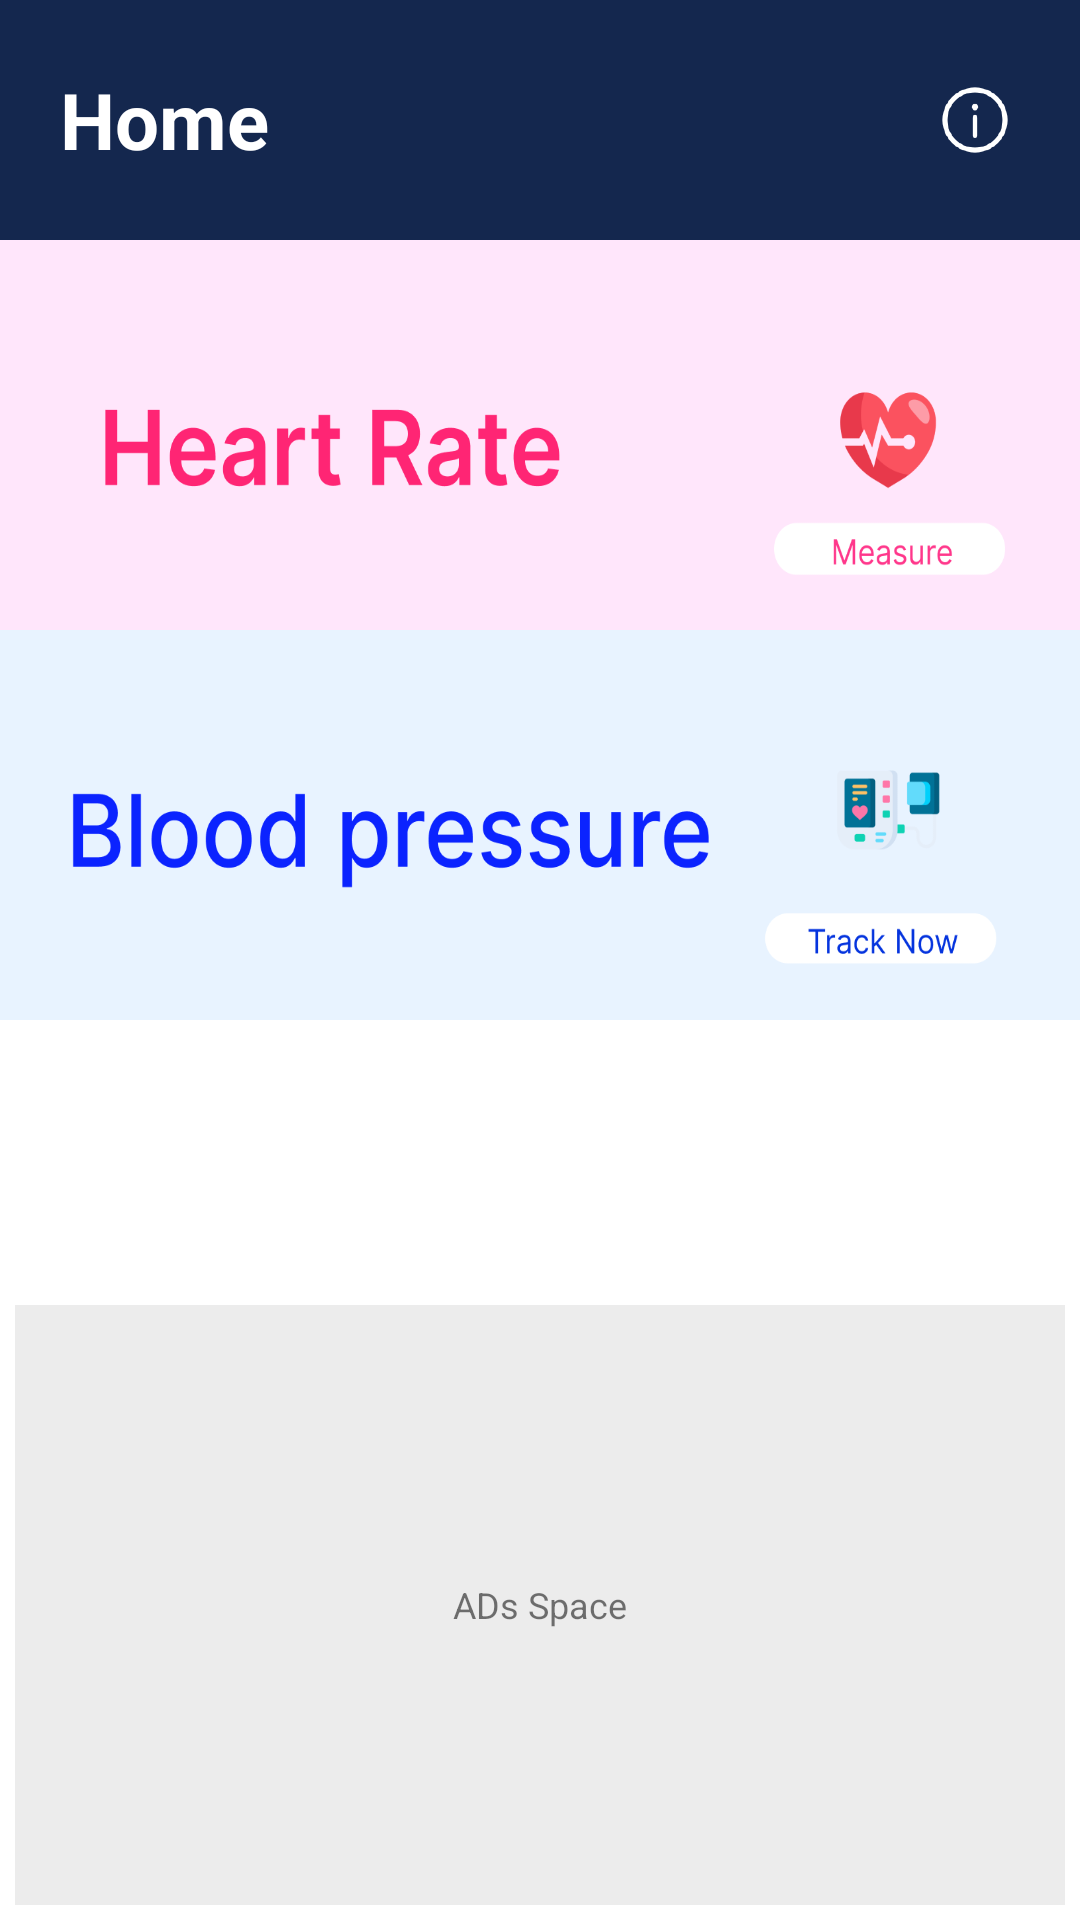

Screen size 1080×1920. Icon name, then its center in pixels as (x,y):
how to use: (975,120)
